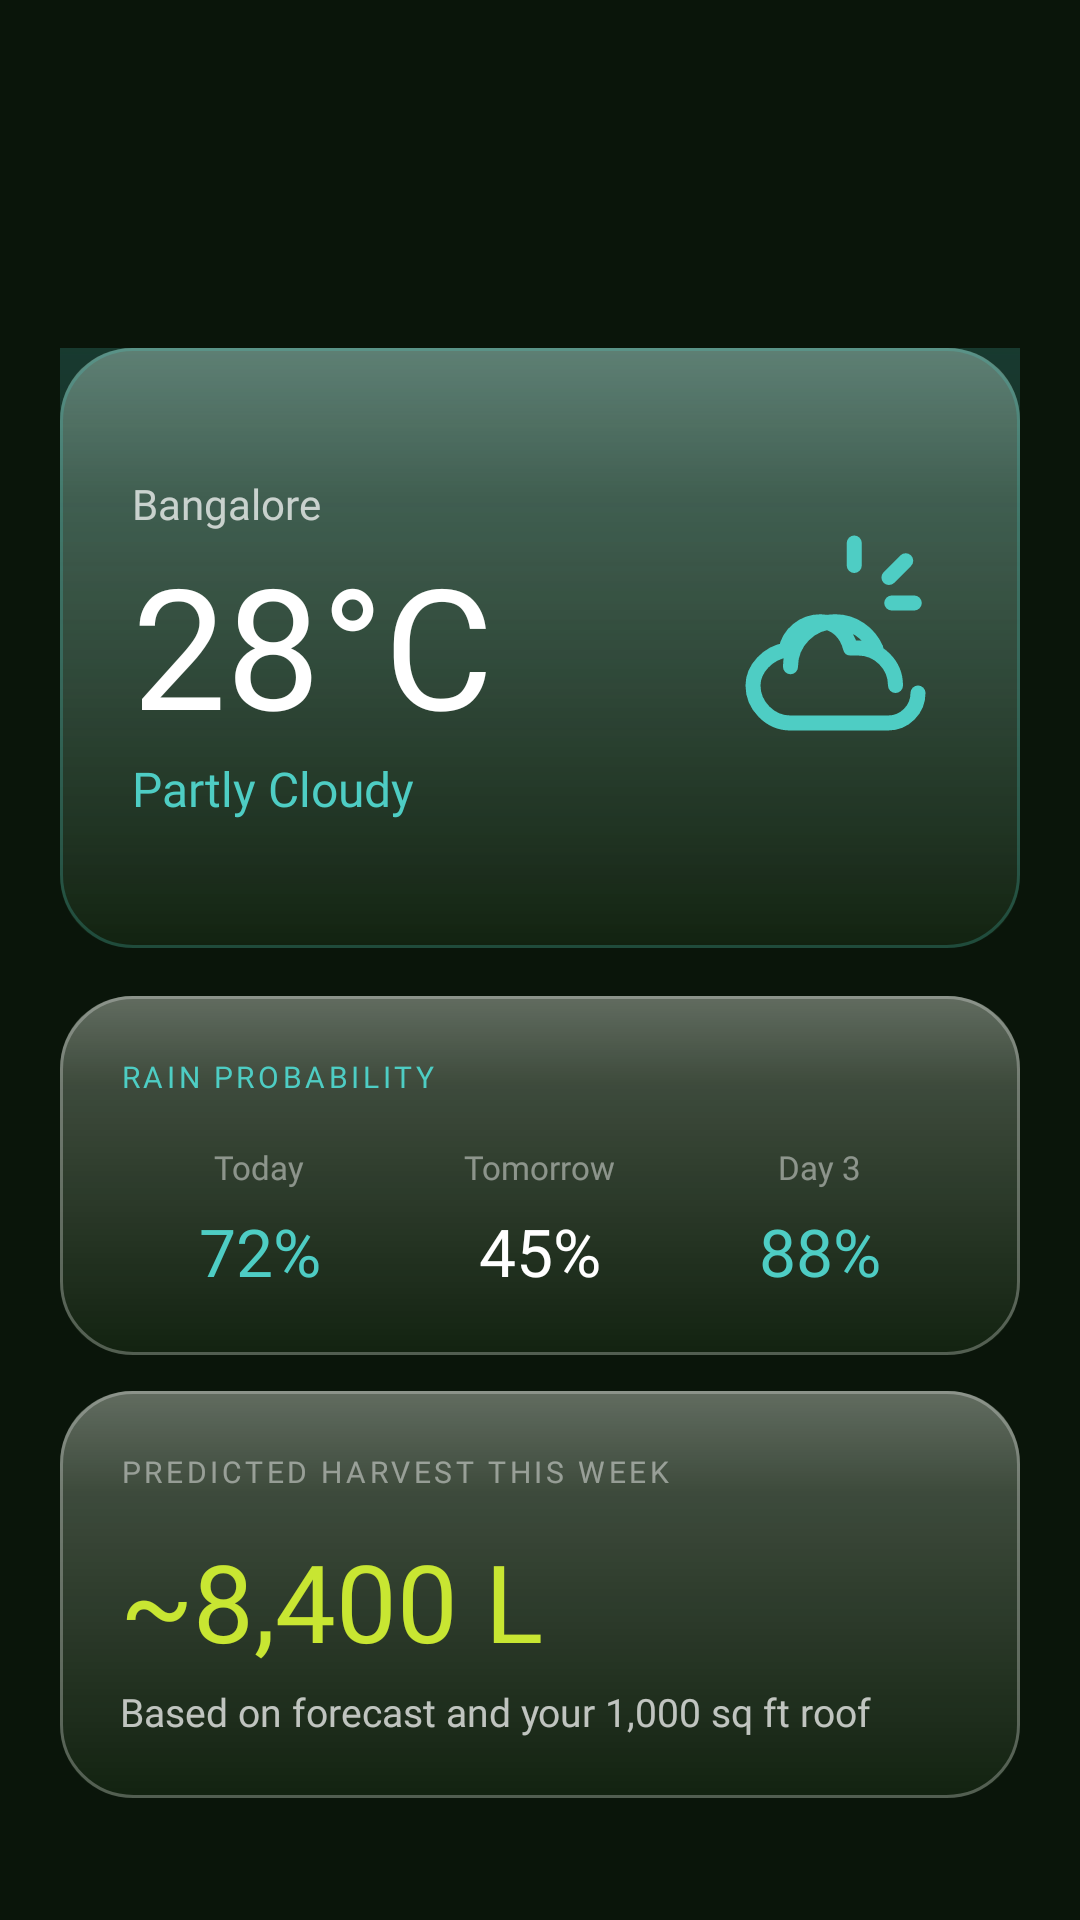

Named icons in this screenshot (1080 x 1920) and their centers, (x=x, y=y):
cloud sun: (x=828, y=651)
